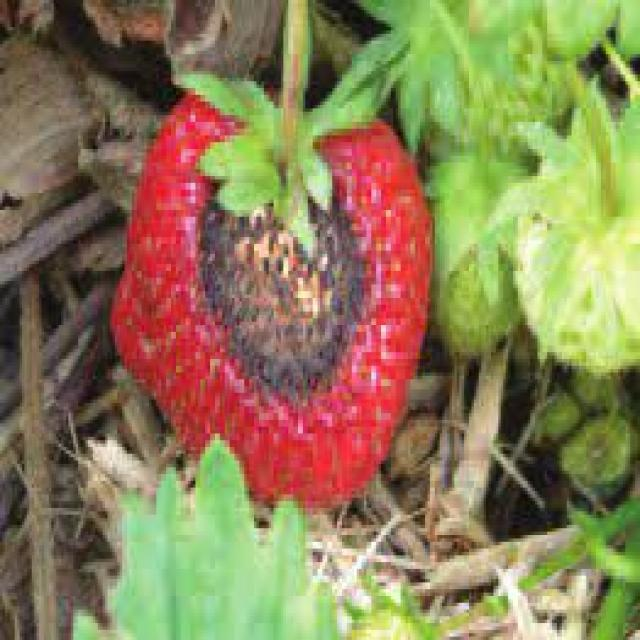Mancha negra Antracnosis: (120, 89, 428, 513)
